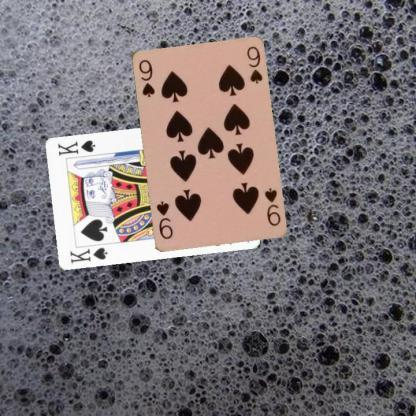9s: (262, 184, 282, 228), (136, 57, 156, 98)
Ks: (68, 245, 108, 264)
